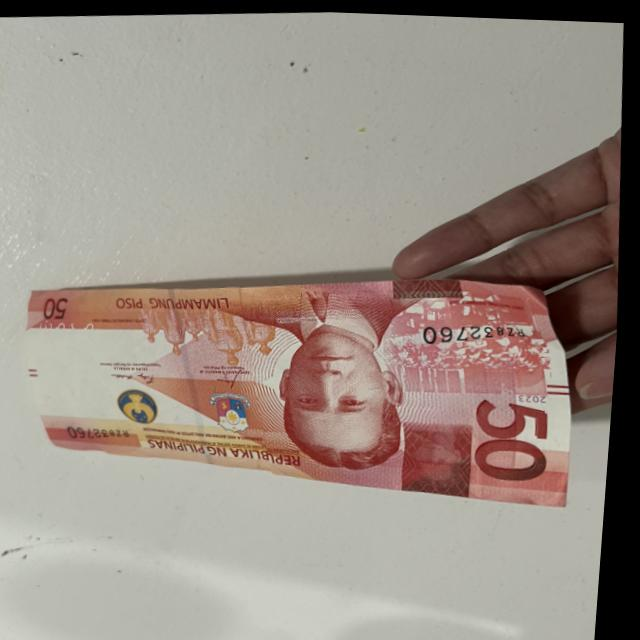concealed_value: (404, 413, 484, 497)
security_thread: (152, 281, 227, 470)
see_through_mark: (37, 314, 110, 344)
serial_number: (419, 306, 548, 347), (67, 412, 142, 452)
value: (477, 386, 575, 485)
